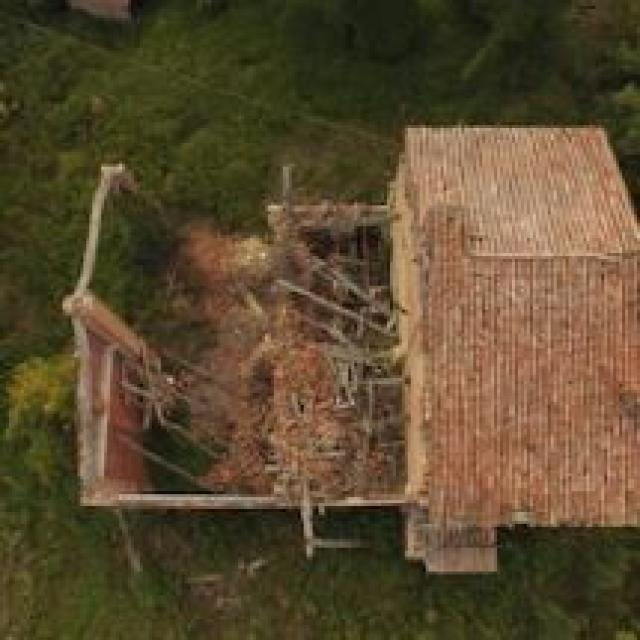collapsed_building: (74, 149, 634, 500)
